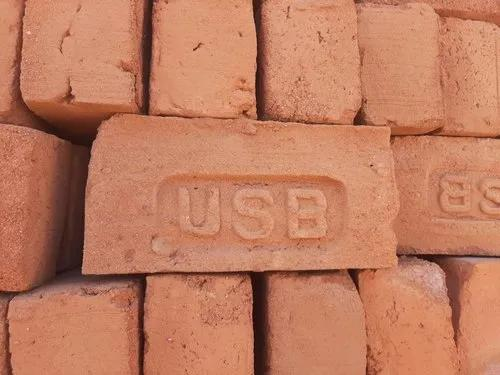brick: (82, 112, 395, 279), (22, 2, 140, 106), (396, 137, 499, 256), (150, 1, 255, 115), (144, 277, 254, 375), (266, 0, 356, 117), (11, 292, 134, 372), (361, 3, 437, 131), (364, 266, 453, 372), (269, 277, 367, 373), (0, 127, 36, 292), (443, 18, 492, 133), (458, 263, 498, 373)
